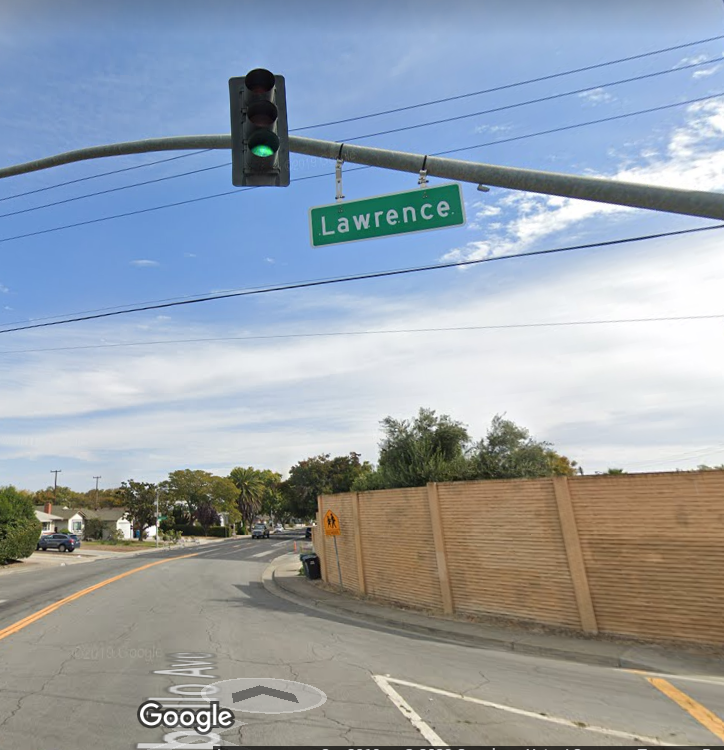green_light: (234, 76, 286, 182)
